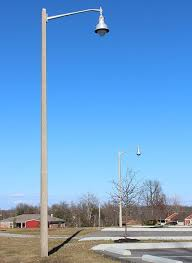light_pole: (39, 8, 58, 258)
